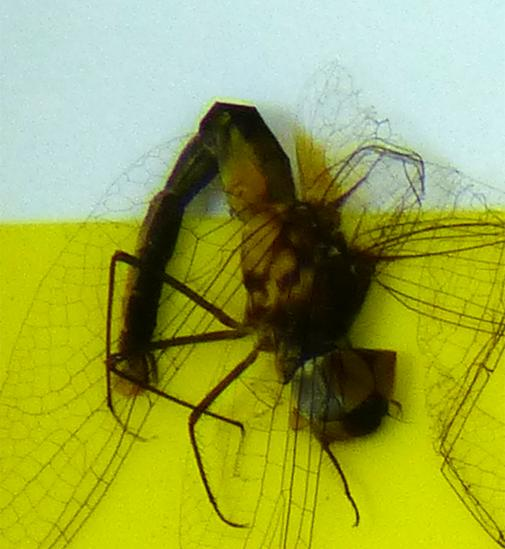Odonata: (100, 100, 405, 449)
